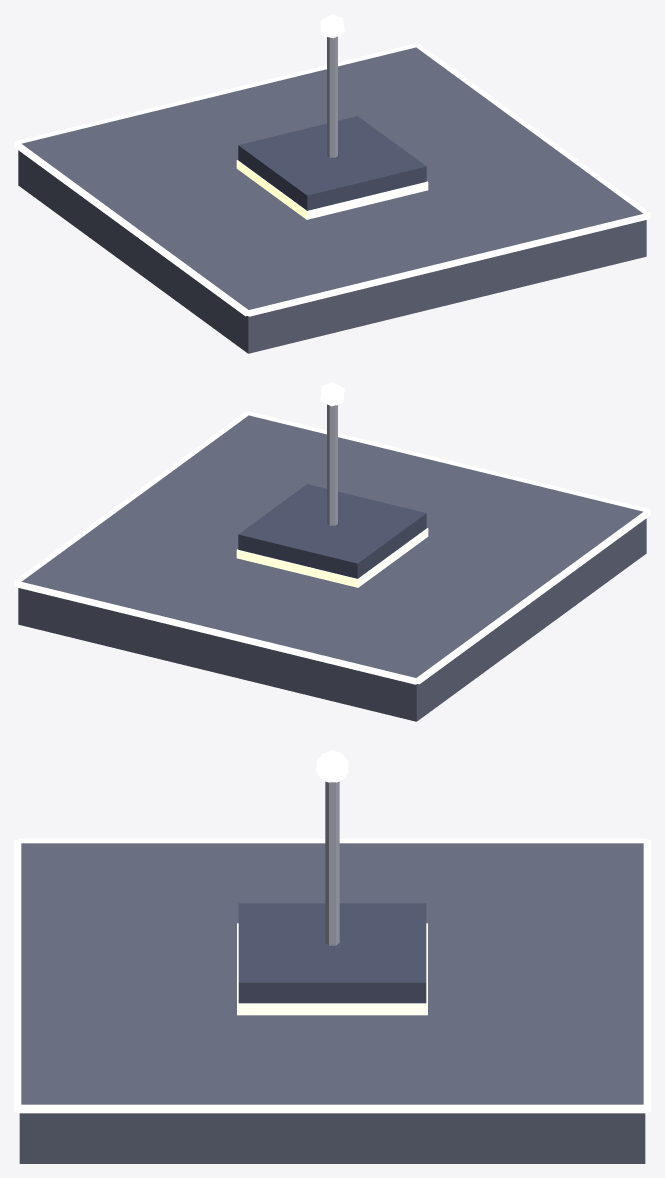
The model's file is tower.glb.
The picture shows the model from 3 angles, top to bottom: view 1: azimuth 30°, elevation 25°; view 2: azimuth 150°, elevation 25°; view 3: azimuth 270°, elevation 25°; orthographic projection. The views are drawn at different scales.
Parts seen in each view (by area): view 1: Podium, Penthouse, PodiumGlowS, PodiumGlowW, PenthouseWindows, PodiumGlowN, PodiumGlowE, Antenna; view 2: Podium, Penthouse, PodiumGlowN, PodiumGlowW, PenthouseWindows, PodiumGlowS, PodiumGlowE, Antenna; view 3: Podium, Penthouse, PodiumGlowE, PodiumGlowW, PenthouseWindows, Antenna, PodiumGlowN, PodiumGlowS, Beacon.
Part boxes in pixels (left/top/right/bottom): Podium: left=18, top=47, right=646, bottom=353; Penthouse: left=238, top=116, right=426, bottom=210; PodiumGlowS: left=247, top=213, right=649, bottom=316; PodiumGlowW: left=14, top=141, right=248, bottom=316; PenthouseWindows: left=236, top=160, right=428, bottom=219; PodiumGlowN: left=15, top=43, right=417, bottom=143; PodiumGlowE: left=415, top=44, right=650, bottom=217; Antenna: left=327, top=36, right=337, bottom=157; Podium: left=18, top=415, right=646, bottom=721; Penthouse: left=238, top=484, right=426, bottom=578; PodiumGlowN: left=15, top=581, right=417, bottom=684; PodiumGlowW: left=415, top=509, right=650, bottom=684; PenthouseWindows: left=236, top=528, right=428, bottom=587; PodiumGlowS: left=247, top=411, right=649, bottom=511; PodiumGlowE: left=14, top=412, right=249, bottom=585; Antenna: left=327, top=404, right=337, bottom=525; Podium: left=19, top=843, right=645, bottom=1163; Penthouse: left=238, top=903, right=426, bottom=1003; PodiumGlowE: left=17, top=1104, right=647, bottom=1113; PodiumGlowW: left=17, top=838, right=647, bottom=843; PenthouseWindows: left=237, top=923, right=427, bottom=1015; Antenna: left=325, top=781, right=339, bottom=945; PodiumGlowN: left=643, top=840, right=650, bottom=1111; PodiumGlowS: left=14, top=840, right=21, bottom=1111; Beacon: left=316, top=750, right=348, bottom=782.
Size of the model in its own units: 30.55 by 14.9 by 30.55.
